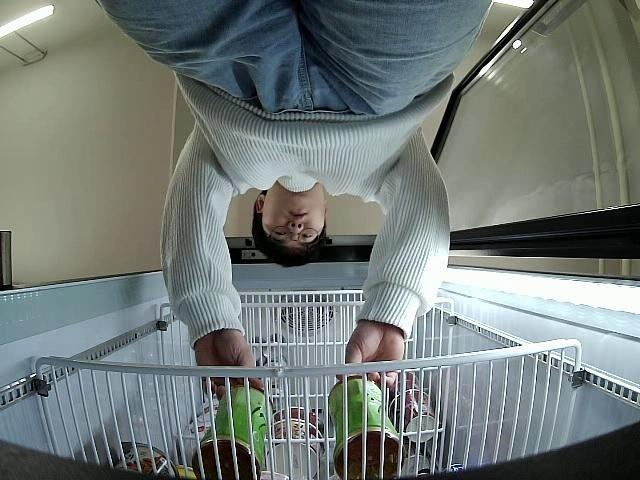19_17cha: (326, 376, 404, 480), (190, 384, 274, 480)
